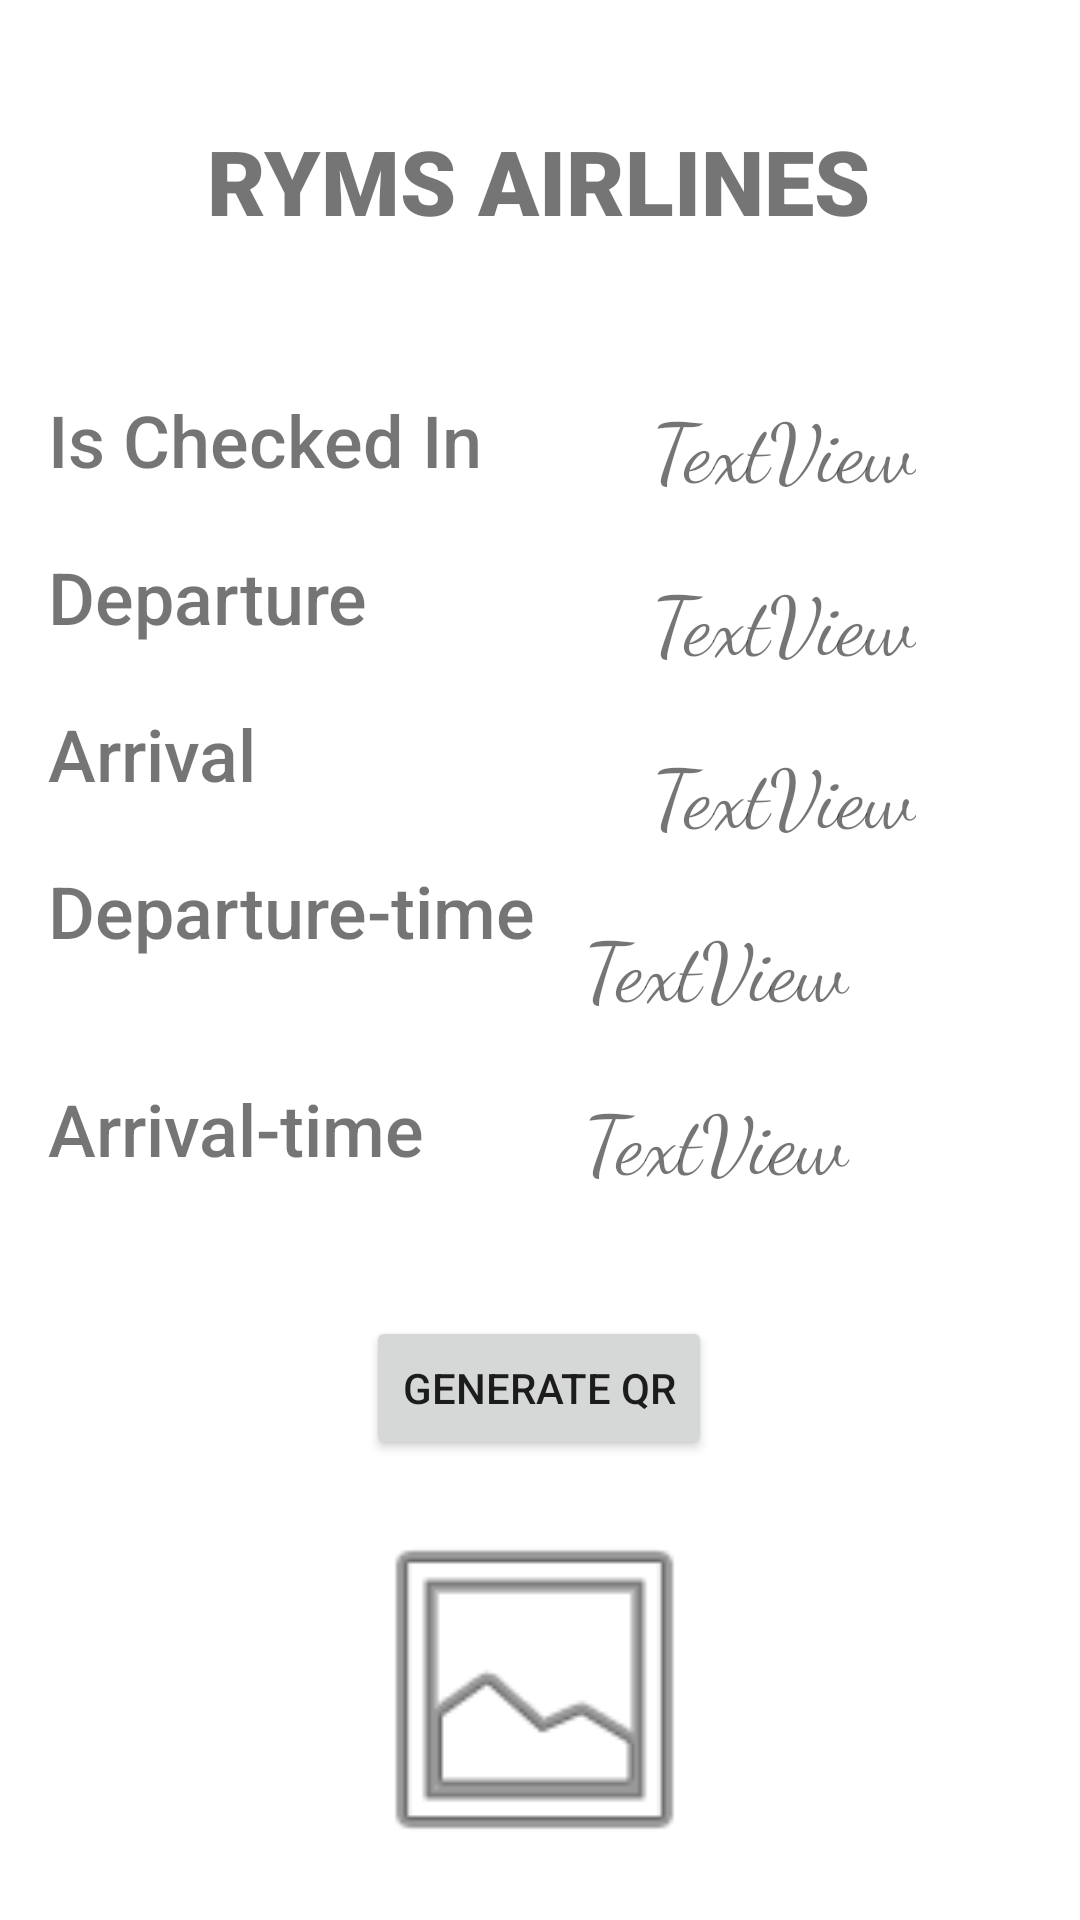

Icon click points for this 1080×1920 phone screenshot, format point (x, y):
gallery: point (534, 1689)
